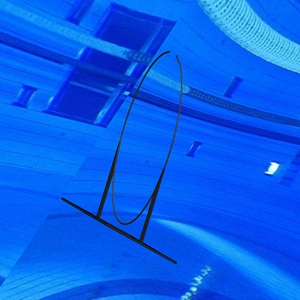circle: (60, 49, 184, 266)
